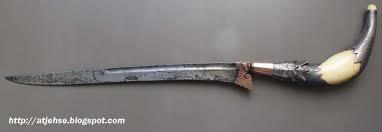facao: (5, 11, 375, 94)
